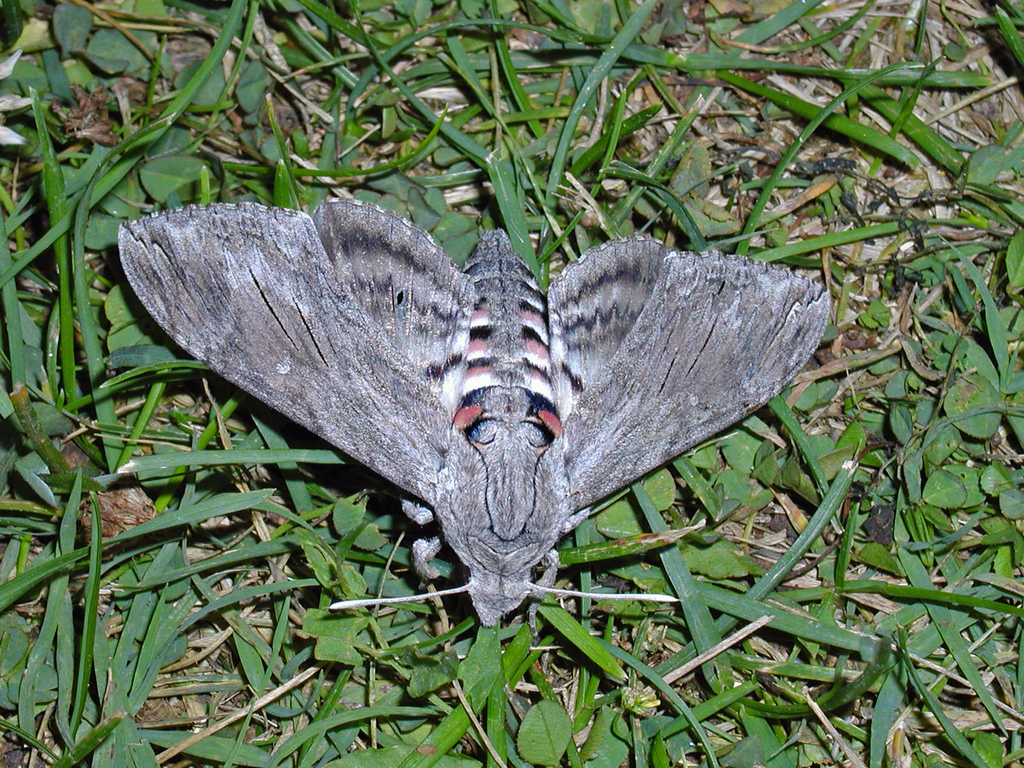Butterfly: (104, 165, 836, 611)
